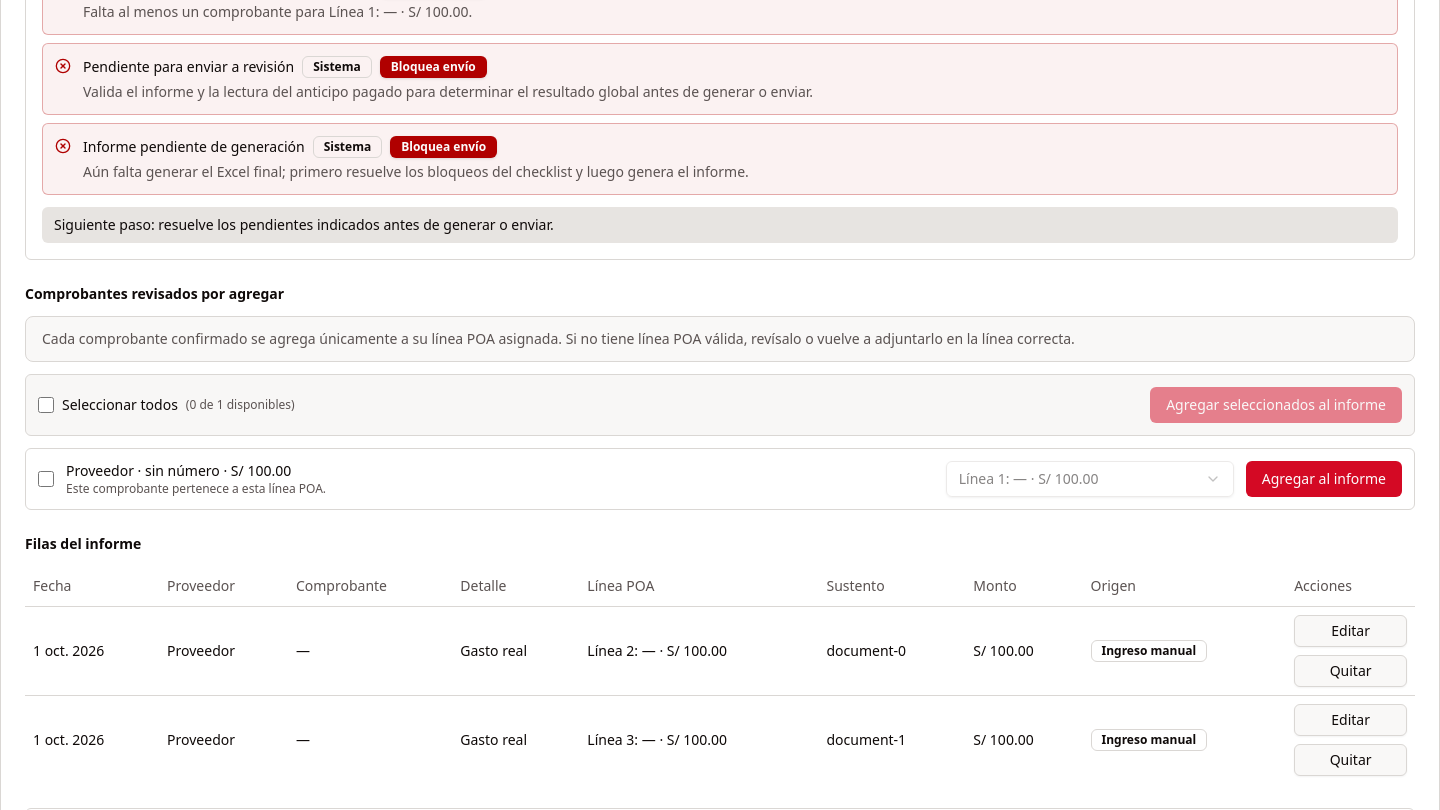
Test: ZERO card through real request hooks and fetch wrapper › disables both validation actions during bulk inclusion and canonical reconciliation without duplicate POST
(page scrolled)
Expected: the button "Agregar seleccionados al informe" is shown, x1=1150 y1=387 x2=1402 y2=423
Click the checkbox labelled "Seleccionar todos (0 de 1 disponibles)".
click(46, 405)  # box x1=38 y1=397 x2=54 y2=413
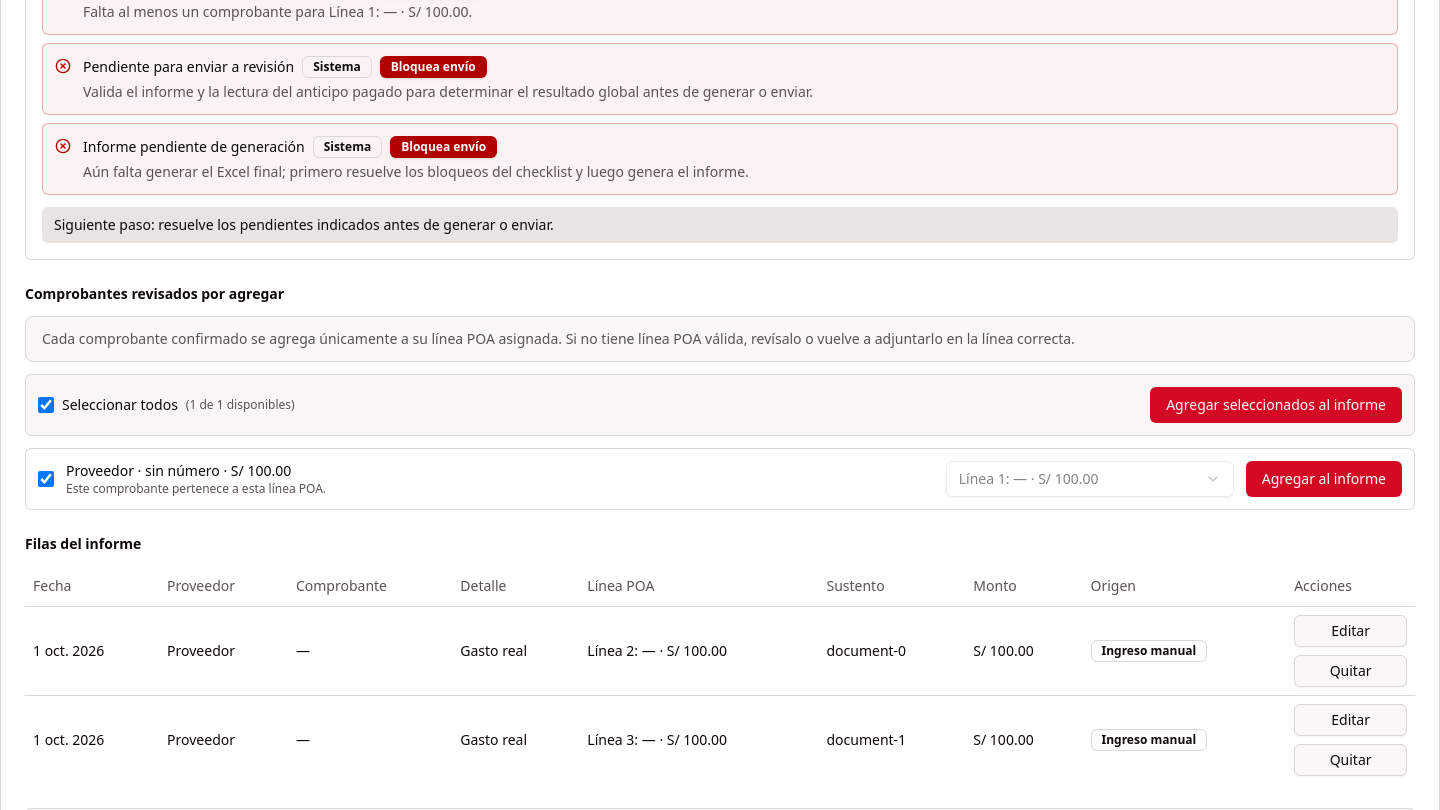
Click the button "Agregar seleccionados al informe".
click(1276, 405)  # box x1=1150 y1=387 x2=1402 y2=423
(page scrolled)
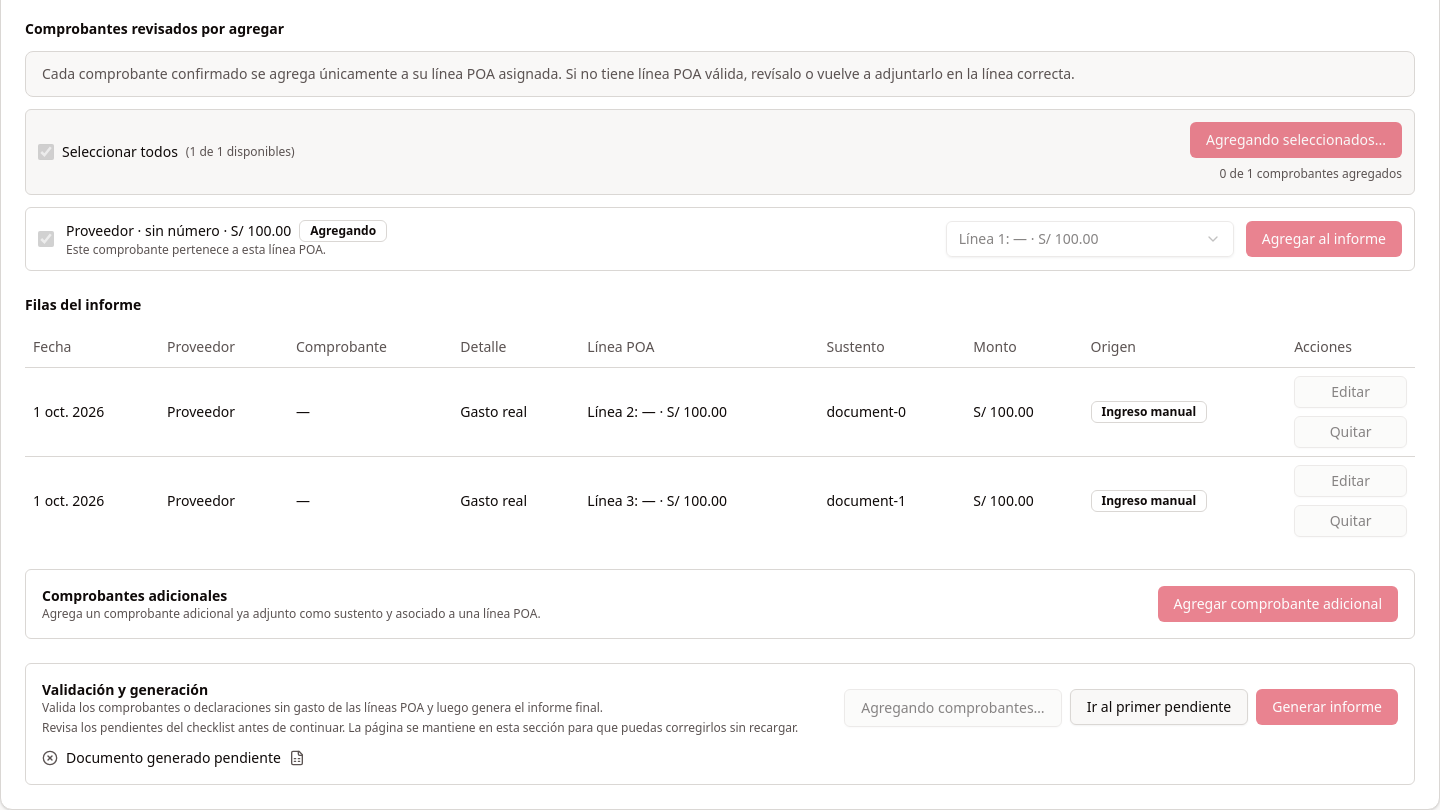
Expected: the button with aria-label "Validar informe" is disabled
Click the button with aria-label "Validar informe".
click(953, 708)  # box x1=844 y1=688 x2=1062 y2=726
(page scrolled)
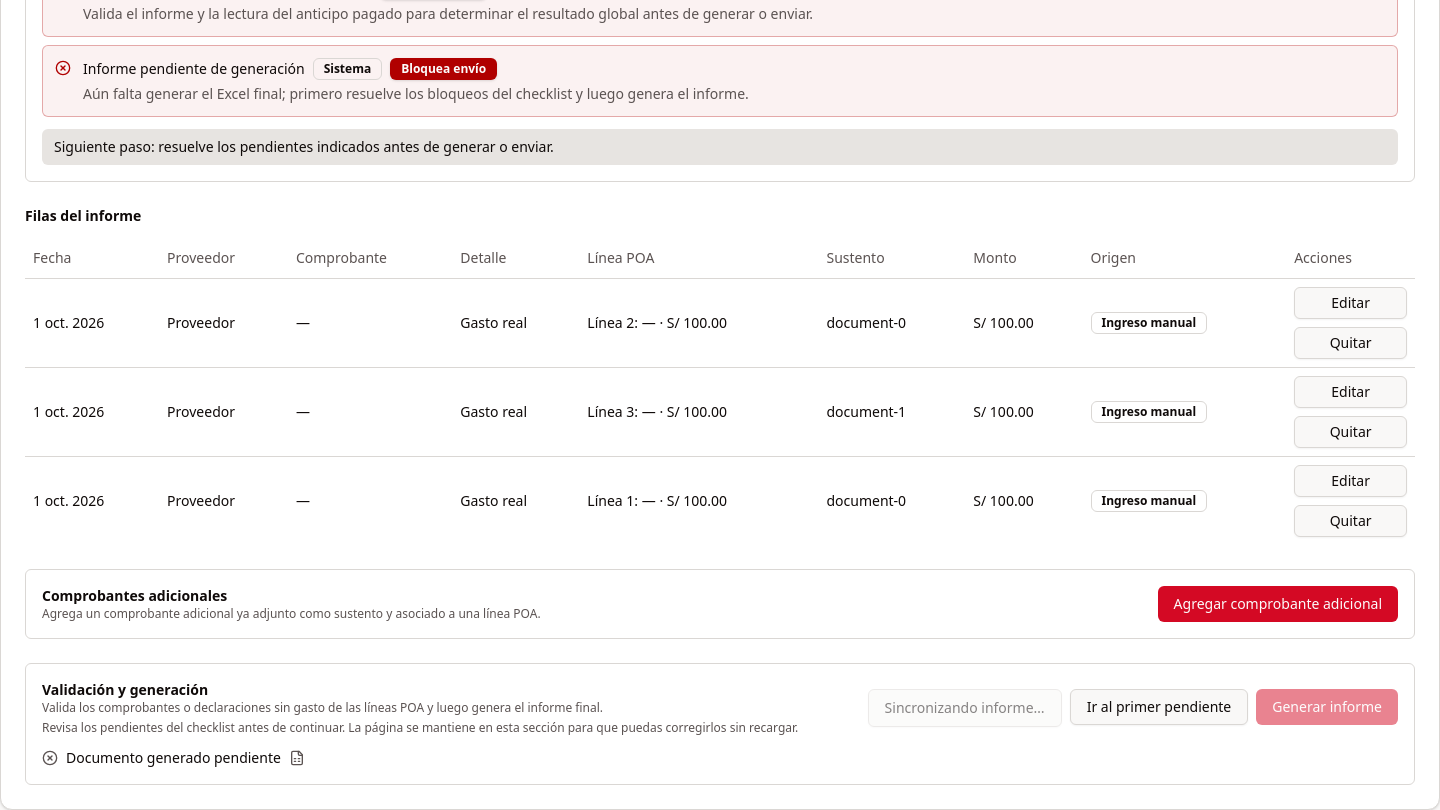
Click the button with aria-label "Validar informe".
click(965, 708)  # box x1=868 y1=688 x2=1062 y2=726
(page scrolled)
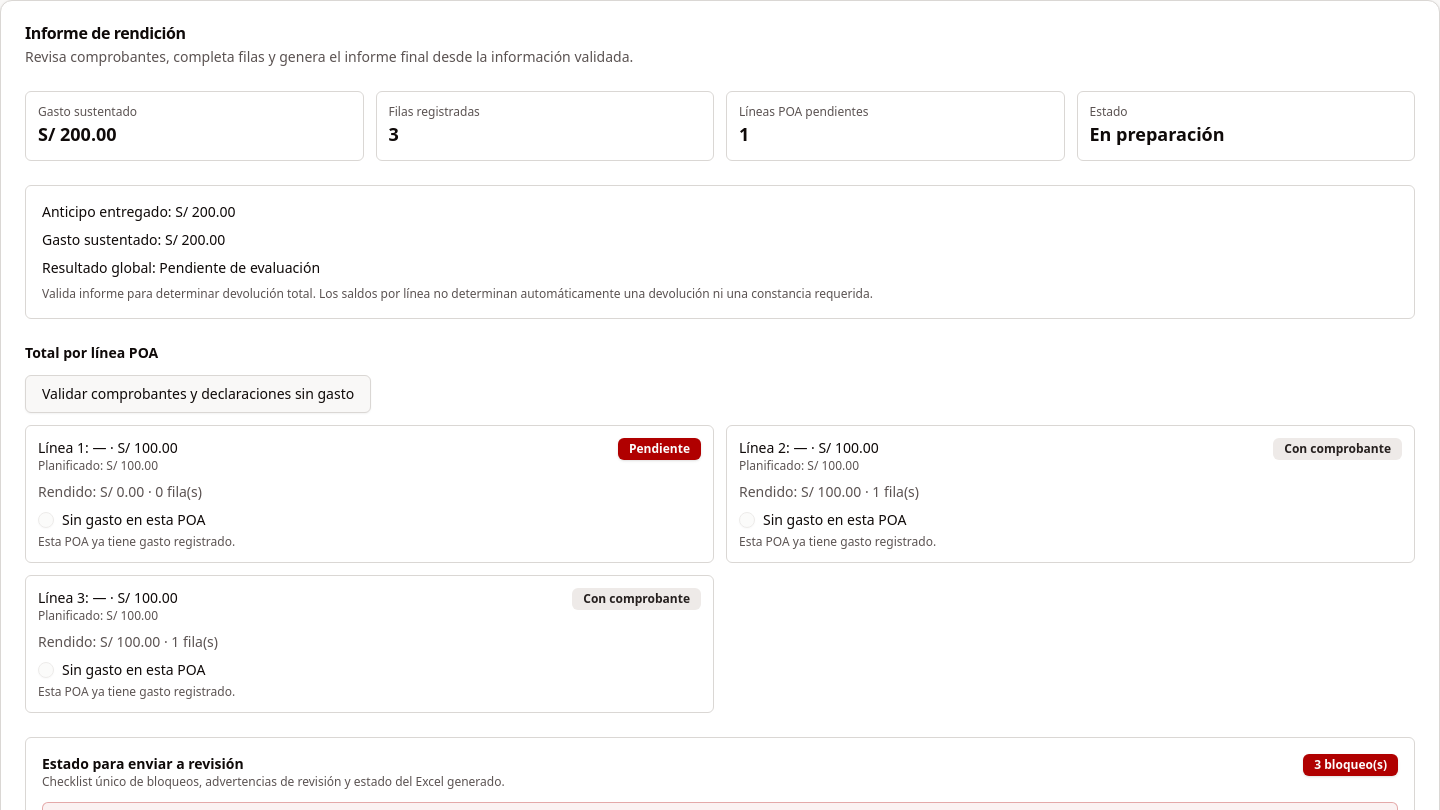
Expected: the button "Validar comprobantes y declaraciones sin gasto" is enabled, x1=25 y1=375 x2=371 y2=413
